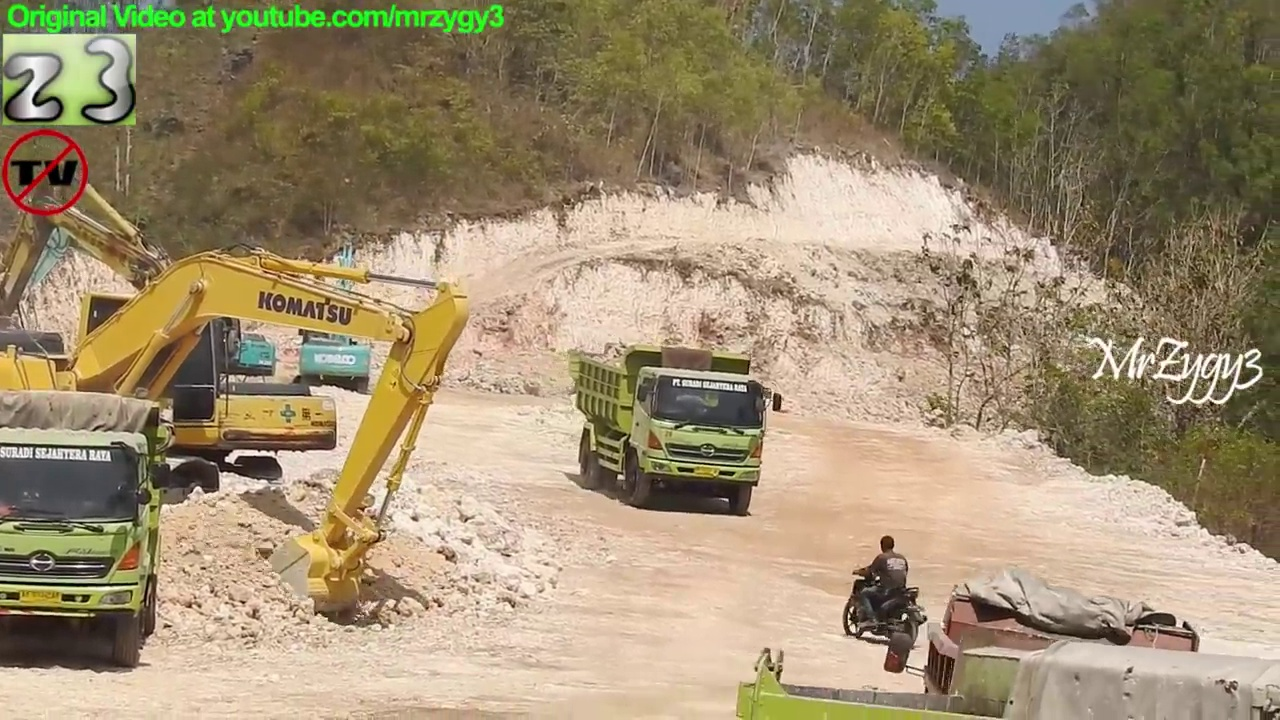excavator: (1, 240, 477, 620), (1, 162, 348, 498), (2, 190, 289, 437), (292, 237, 375, 395)
truck: (2, 388, 182, 671), (881, 567, 1202, 720), (738, 636, 1280, 720), (569, 341, 786, 521)
